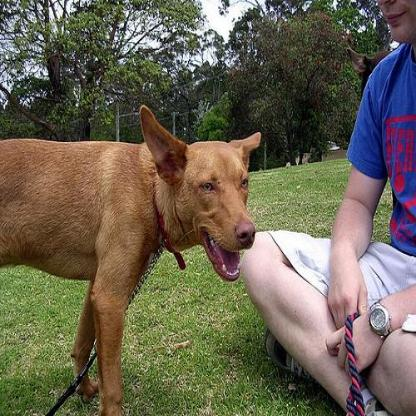kelpie: (0, 101, 260, 414)
